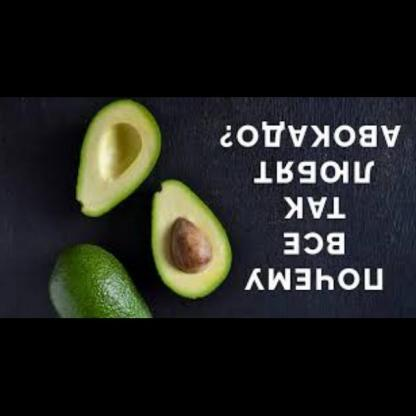avocado: (71, 100, 168, 226), (16, 237, 161, 319), (156, 179, 236, 304)
